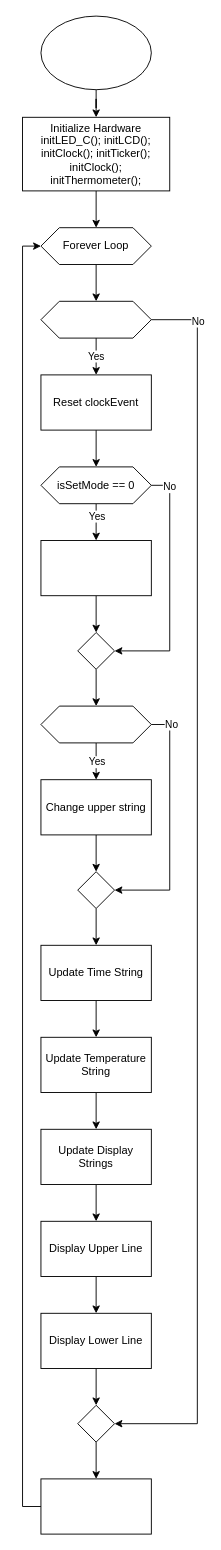
Image size: 221x1550. Some labels were removed from this diagram. The shapes that lost their labels are listed below. From the top down, each one's centre as x and y in pixels, then its label:
At pixel 95 52: "main()".
At pixel 95 319: "clockEvent == 1".
At pixel 95 568: "tickClock()".
At pixel 95 724: "Have ten seconds passed?".
At pixel 95 1506: "checkButtons()".
